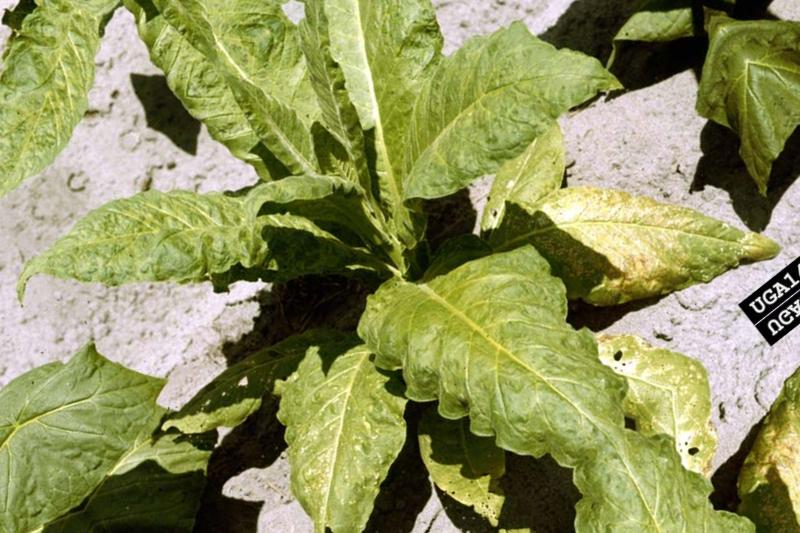Tomato leaf mosaic virus: (0, 89, 371, 447), (338, 194, 662, 527), (368, 0, 631, 231), (199, 304, 458, 533)
